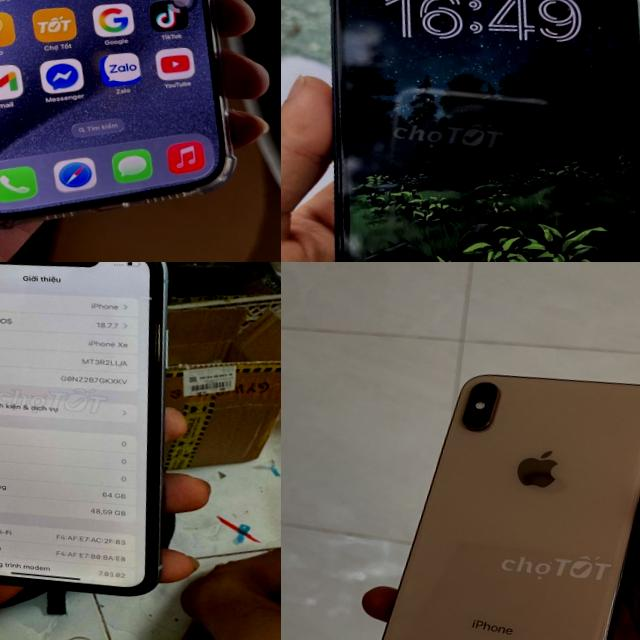gen_12_13: (281, 0, 640, 262)
gen_15: (0, 0, 281, 246)
gen_x_xs: (0, 262, 214, 604), (381, 374, 640, 640)
